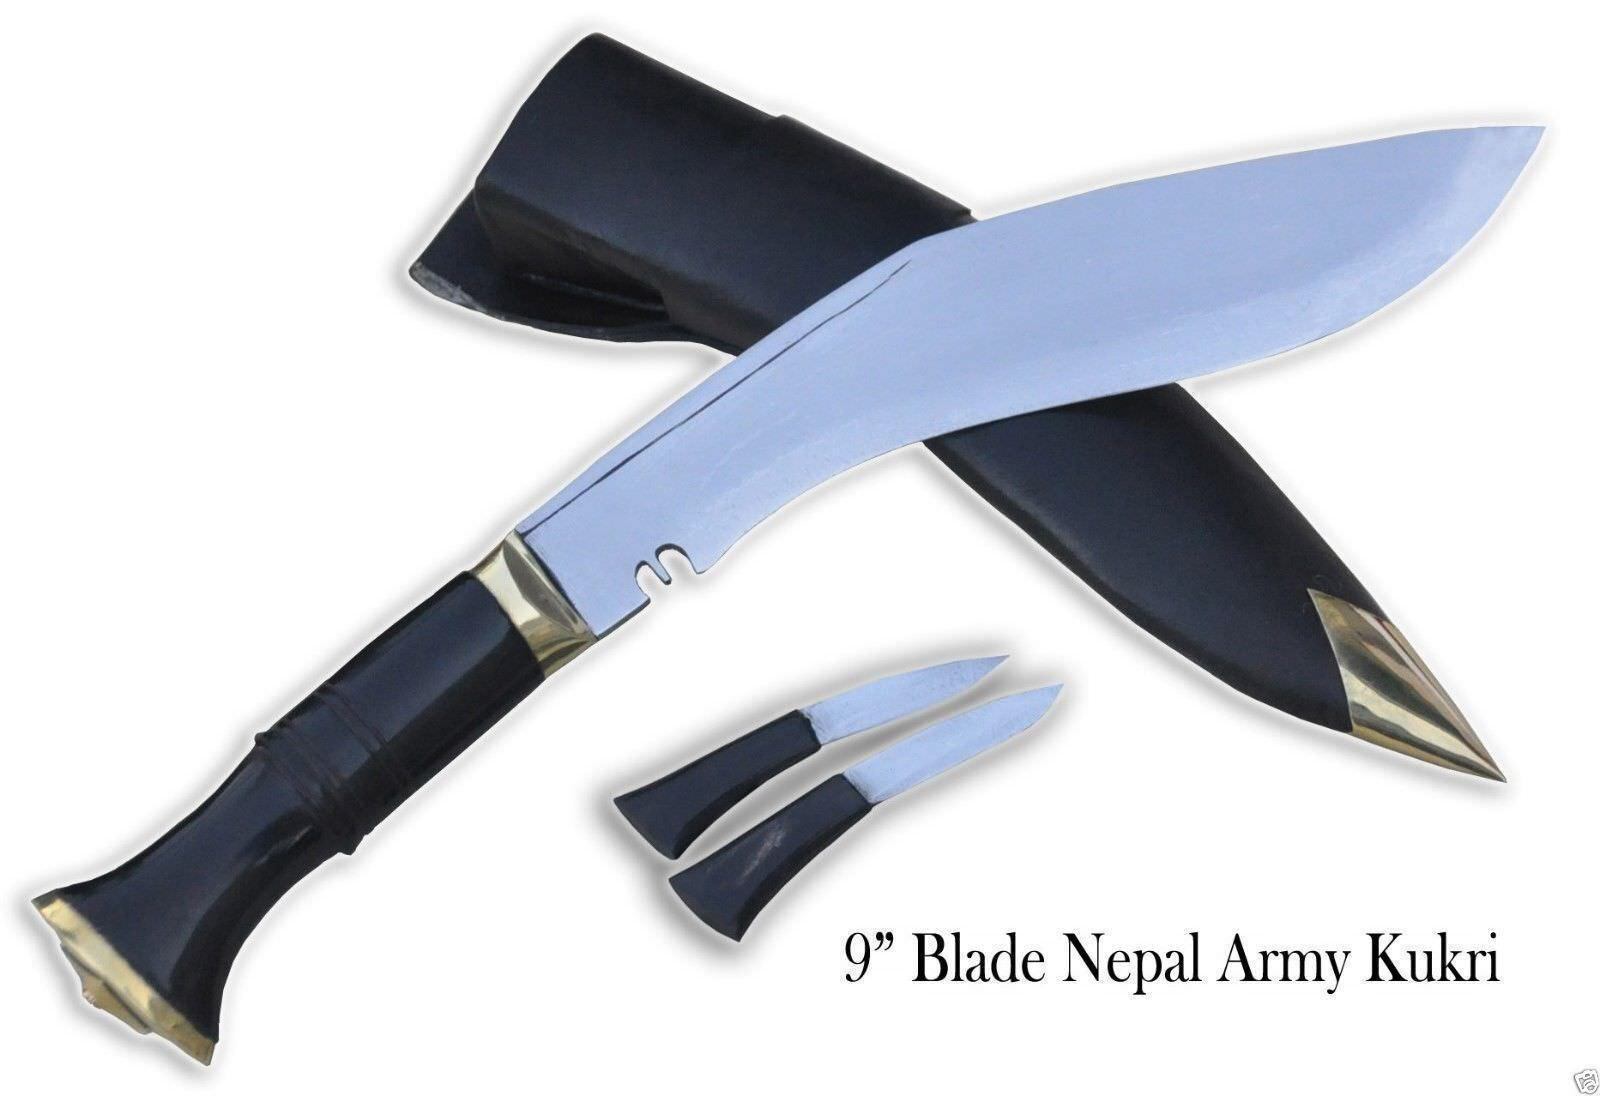facao: (15, 112, 1543, 1072)
